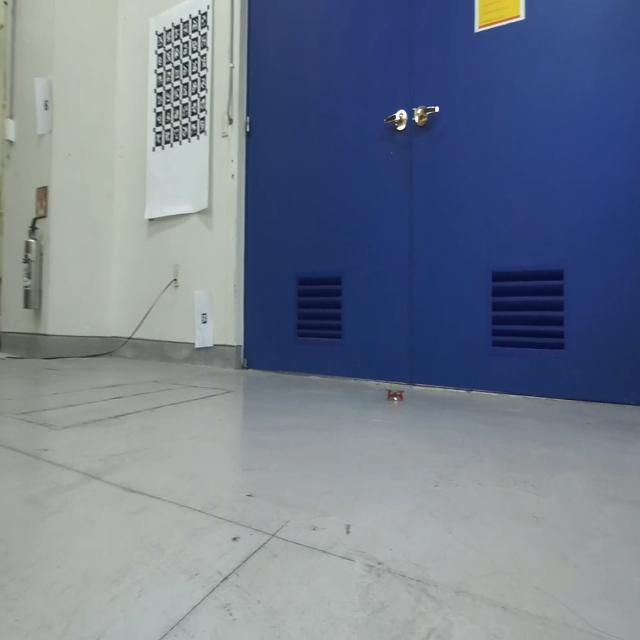crazyflie: (384, 386, 405, 406)
